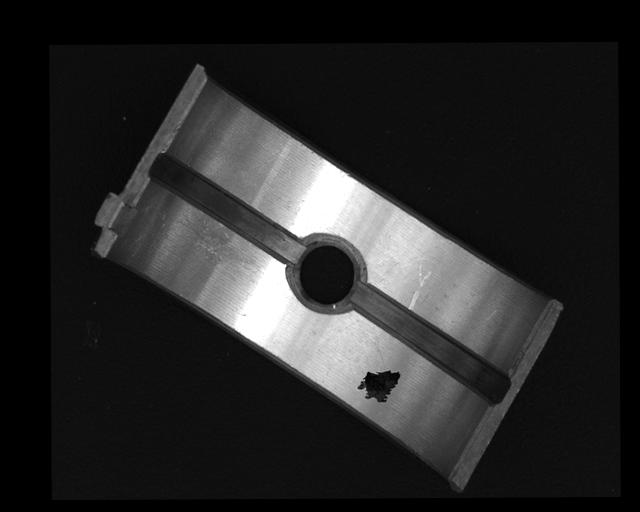blot: (356, 370, 400, 403)
gap: (354, 282, 508, 403), (146, 152, 302, 260)
hole: (289, 233, 363, 313)
nick: (407, 264, 432, 312)
scratch: (174, 208, 259, 271)
